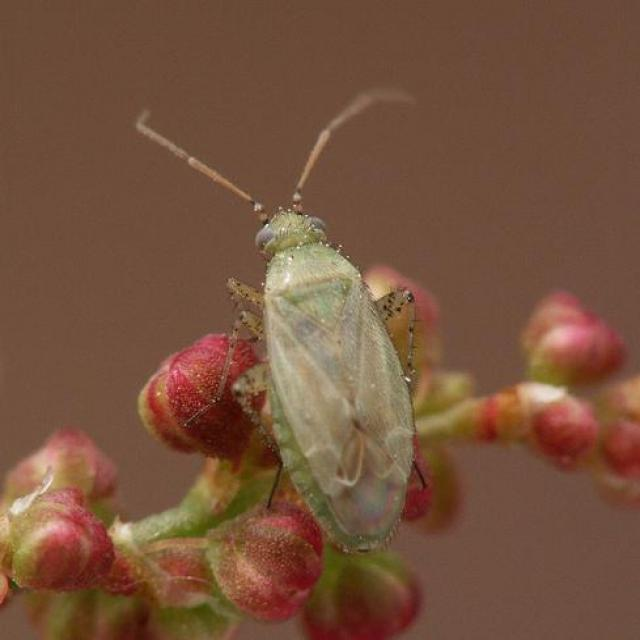Miridae-Adult-: (126, 81, 458, 564)
